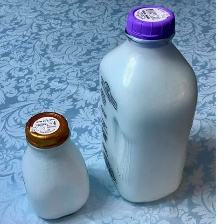bottle: (95, 2, 202, 206), (18, 108, 94, 221)
